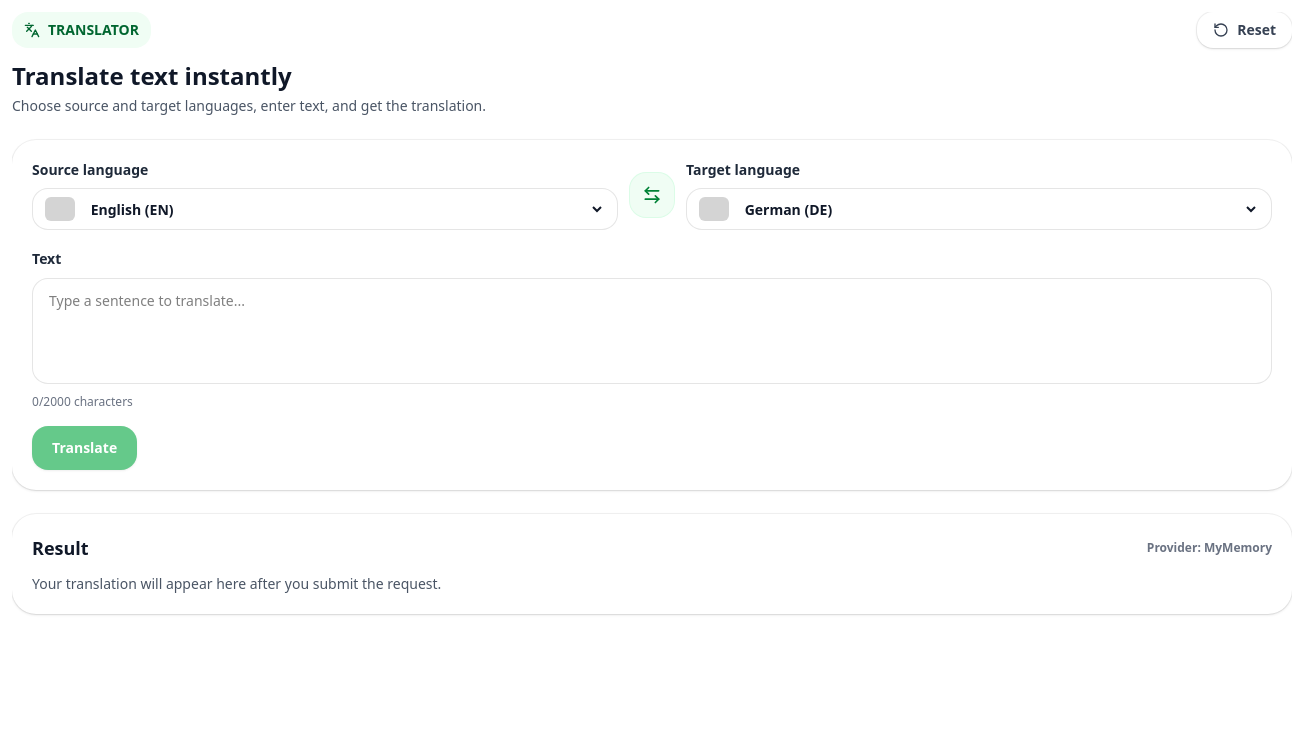
Scenario: Translate page › disables Translate when source === target
This screenshot has width=1304, height=732.
Type "Hello" into the text box with placeholder "Type a sentence to translate..." at (652, 331), box [32,278,1272,384]
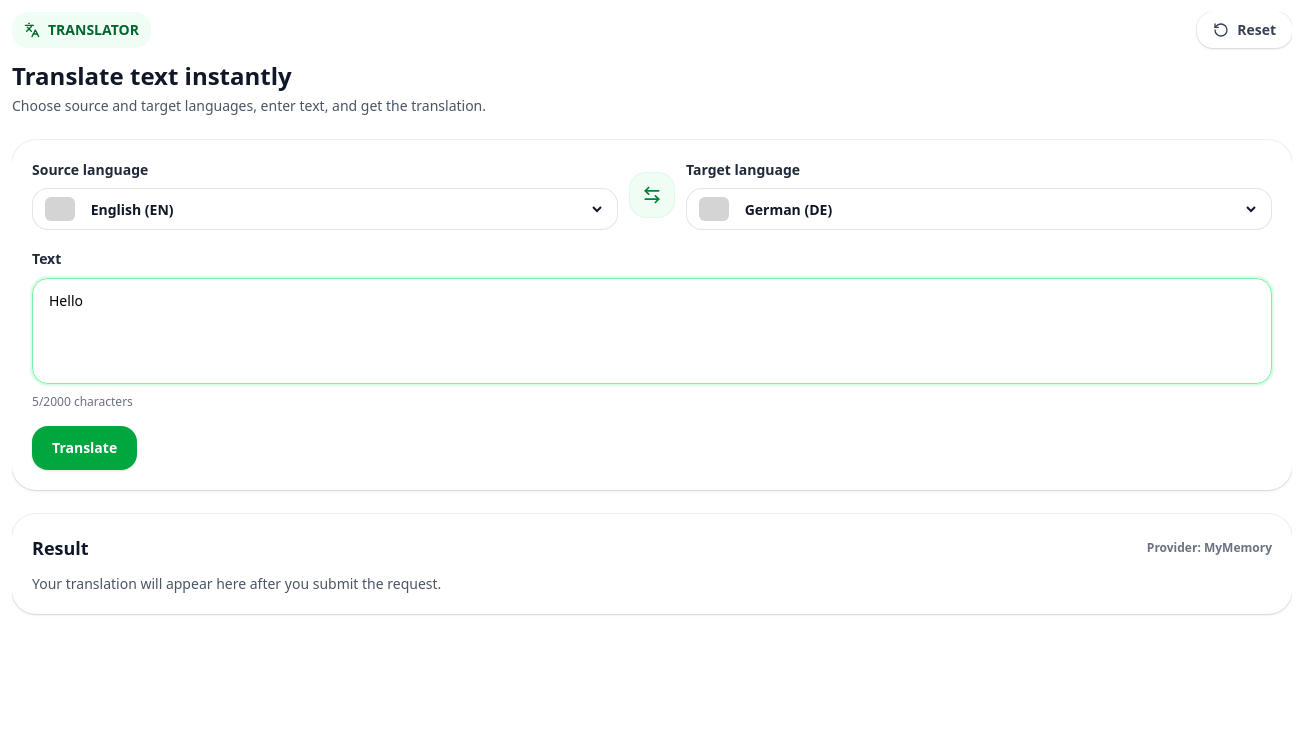
Select "English (EN)" in the 2nd dropdown at (1000, 209), box [741,198,1259,220]
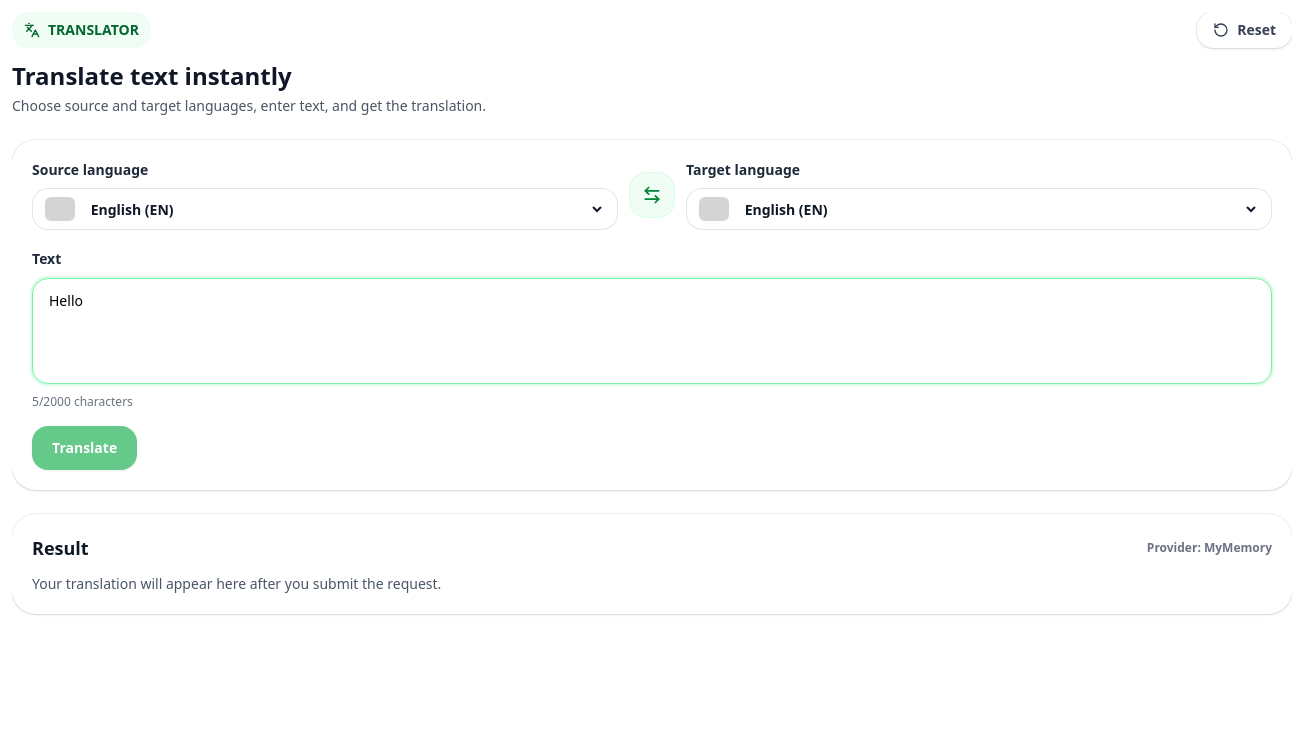
Expected: the button "Translate" is disabled, [32,426,137,470]
